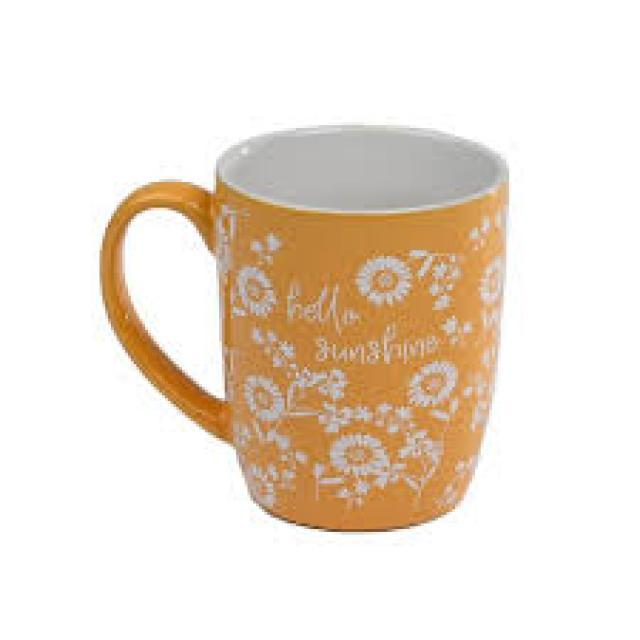taza: (99, 121, 512, 534)
